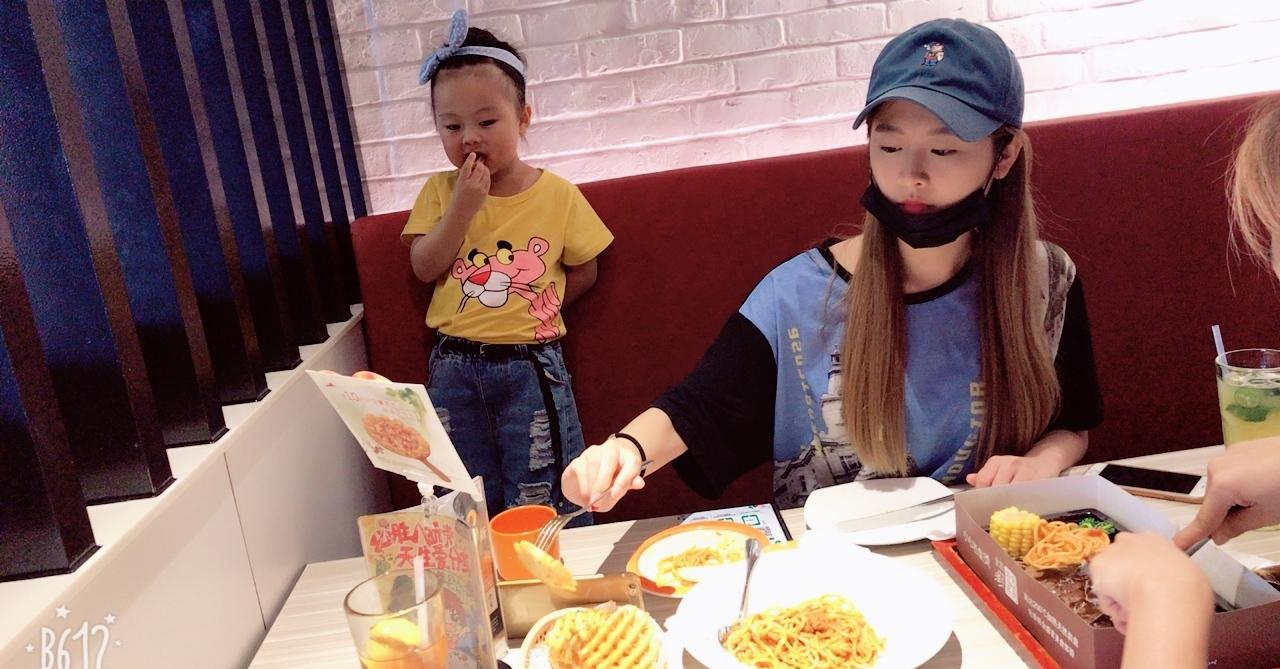NONE: (440, 103, 525, 178)
WRONG: (866, 125, 988, 247)
